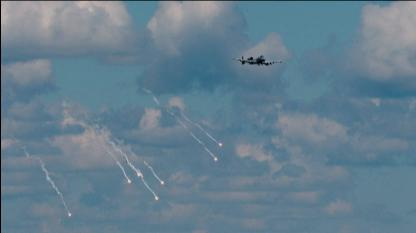A10: (230, 55, 280, 65)
